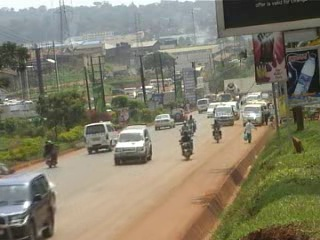Car: (0, 168, 62, 240), (109, 120, 155, 164), (150, 110, 175, 130), (166, 104, 186, 122)
Motorcycle: (40, 138, 61, 170), (179, 132, 196, 159), (184, 112, 200, 135), (209, 119, 223, 144), (177, 120, 192, 143)
